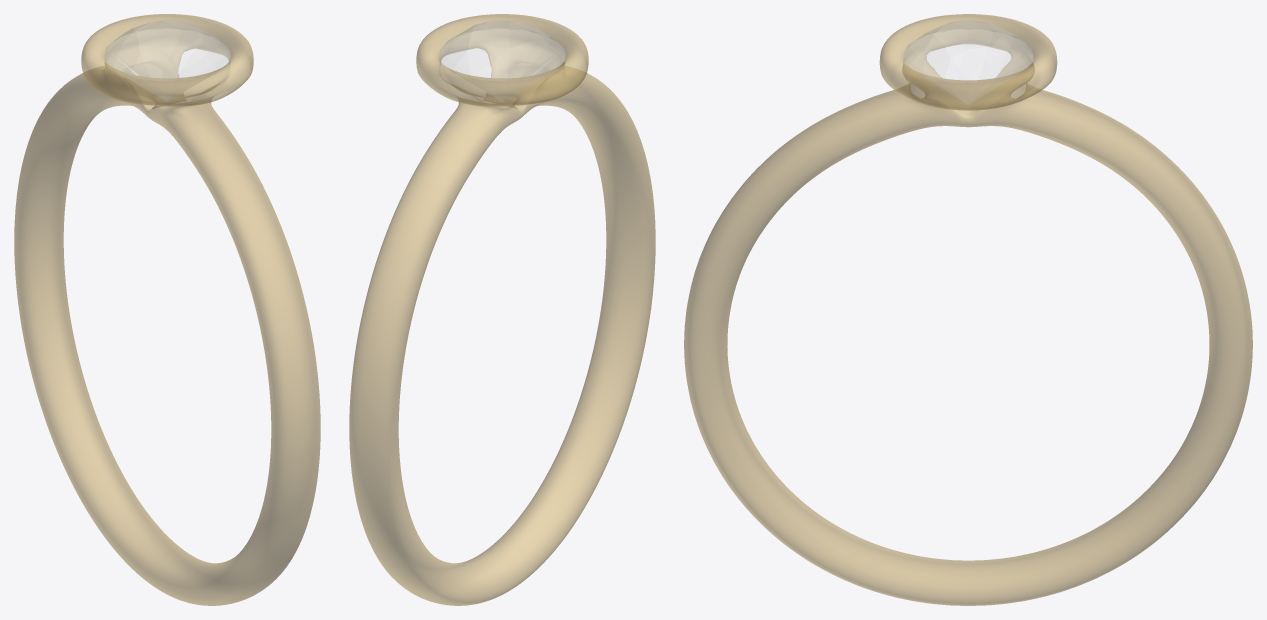
The picture shows the model from 3 angles, left to right: view 1: azimuth 30°, elevation 25°; view 2: azimuth 150°, elevation 25°; view 3: azimuth 270°, elevation 25°; orthographic projection. The views are drawn at different scales.
Parts seen in each view (by area): view 1: Ring, Diamond; view 2: Ring, Diamond; view 3: Ring, Diamond.
Boxes of the visible parts, box(x1,y1,x2,y2) form: Ring: box(14, 14, 320, 605); Diamond: box(104, 21, 230, 100); Ring: box(349, 14, 655, 605); Diamond: box(440, 21, 565, 100); Ring: box(684, 14, 1252, 605); Diamond: box(904, 20, 1032, 104).
Size of the model in its own units: 0.7228 by 2.55 by 2.32.
